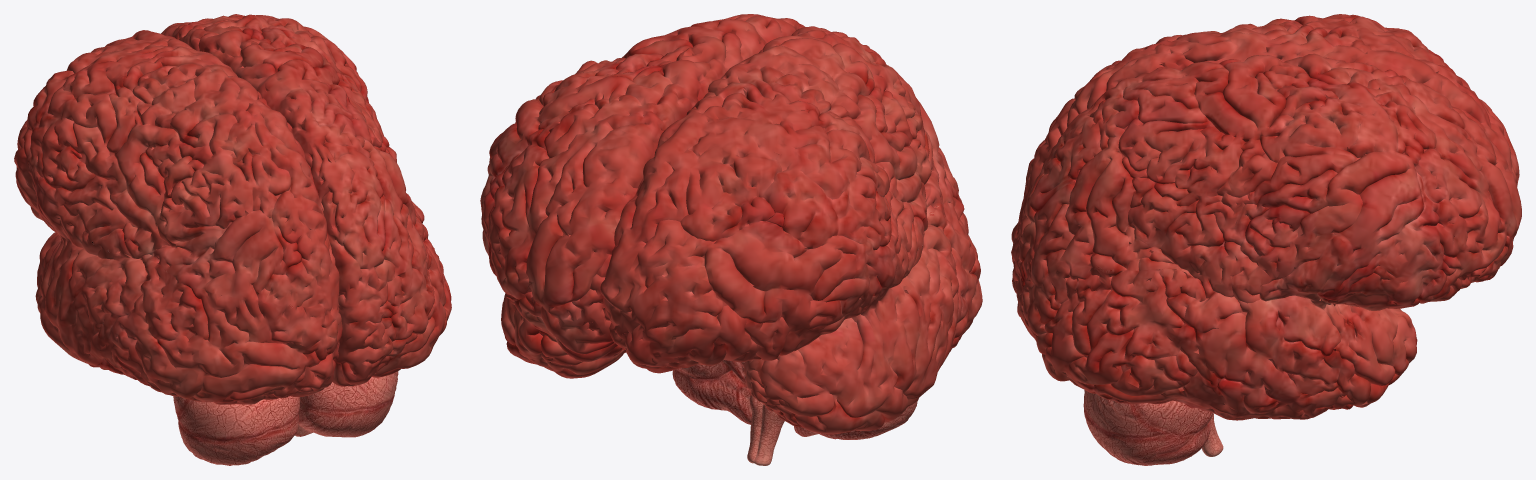
The model's file is brain.glb.
3 views of the same model, side by side, from view 1: azimuth 30°, elevation 25°; view 2: azimuth 150°, elevation 25°; view 3: azimuth 270°, elevation 25° (orthographic). The views are drawn at different scales.
Visible parts, largest first — view 1: Lobe_Lobe_0, Lobe_Cerebllum_2_0; view 2: Lobe_Lobe_0, Lobe_Cerebllum_2_0, Lobe_Cerebllum_1_0; view 3: Lobe_Lobe_0, Lobe_Cerebllum_2_0.
Boxes of the visible parts, x1=… form: Lobe_Lobe_0: x1=14, y1=14, x2=451, y2=404; Lobe_Cerebllum_2_0: x1=173, y1=371, x2=398, y2=465; Lobe_Lobe_0: x1=480, y1=14, x2=982, y2=434; Lobe_Cerebllum_2_0: x1=672, y1=360, x2=918, y2=439; Lobe_Cerebllum_1_0: x1=740, y1=362, x2=784, y2=465; Lobe_Lobe_0: x1=1011, y1=14, x2=1521, y2=420; Lobe_Cerebllum_2_0: x1=1083, y1=390, x2=1212, y2=465.
Bounding box in the file's own units: 0.1406 × 0.1503 × 0.17.
3 materials, 3 textured.
